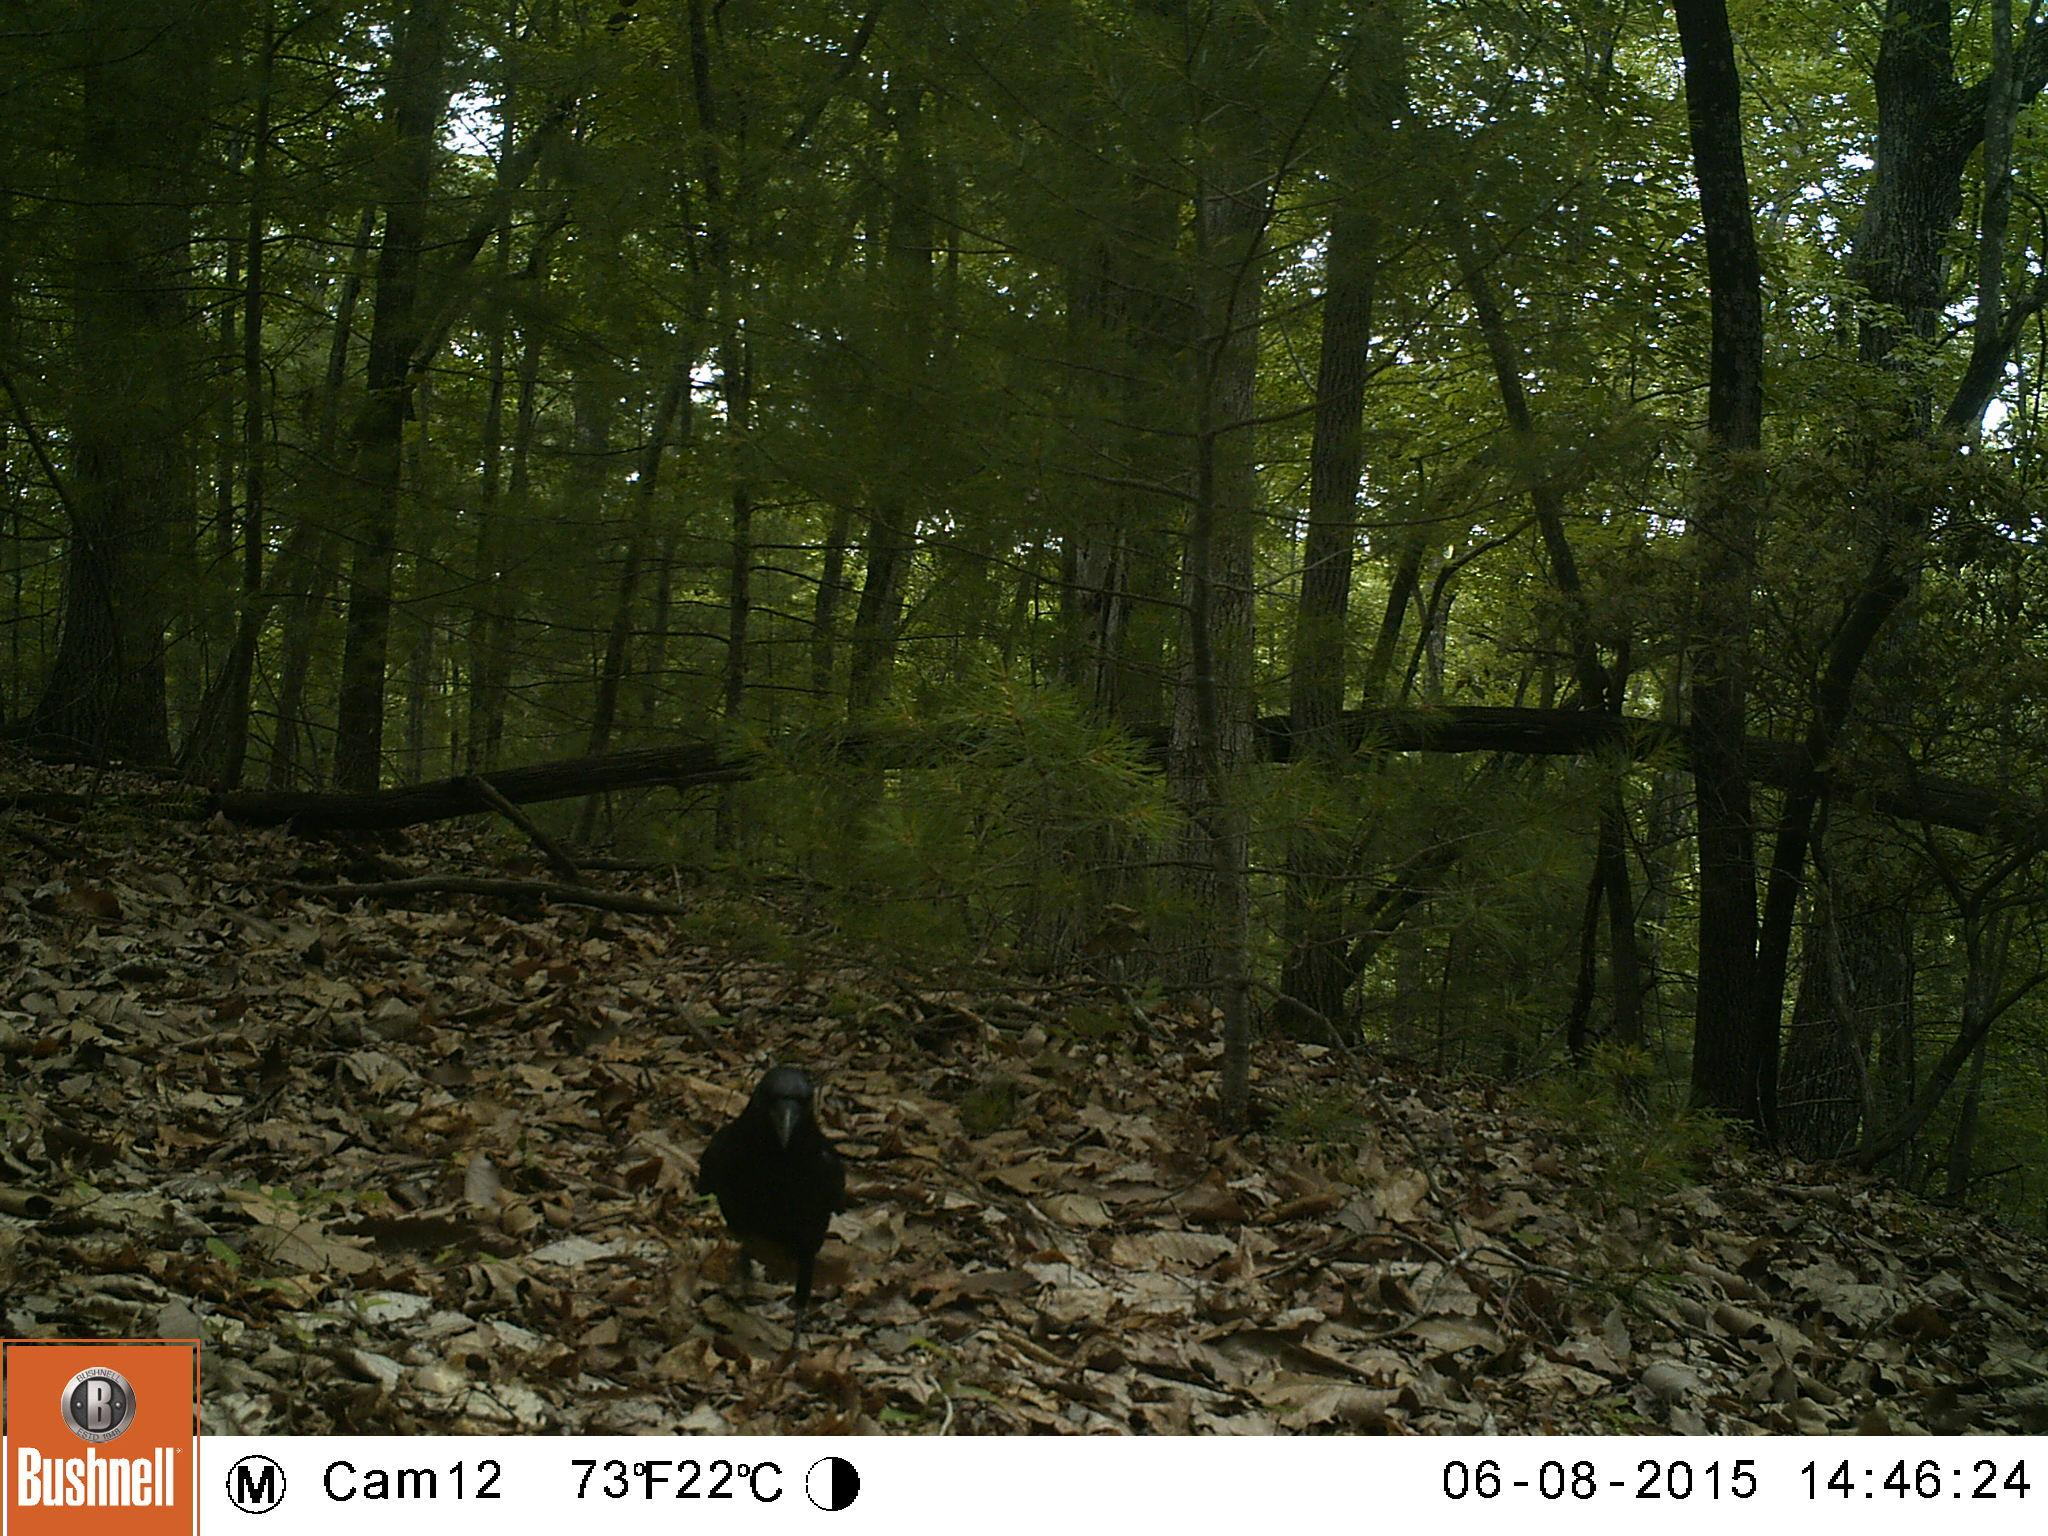Animal: (701, 1062, 847, 1321)
